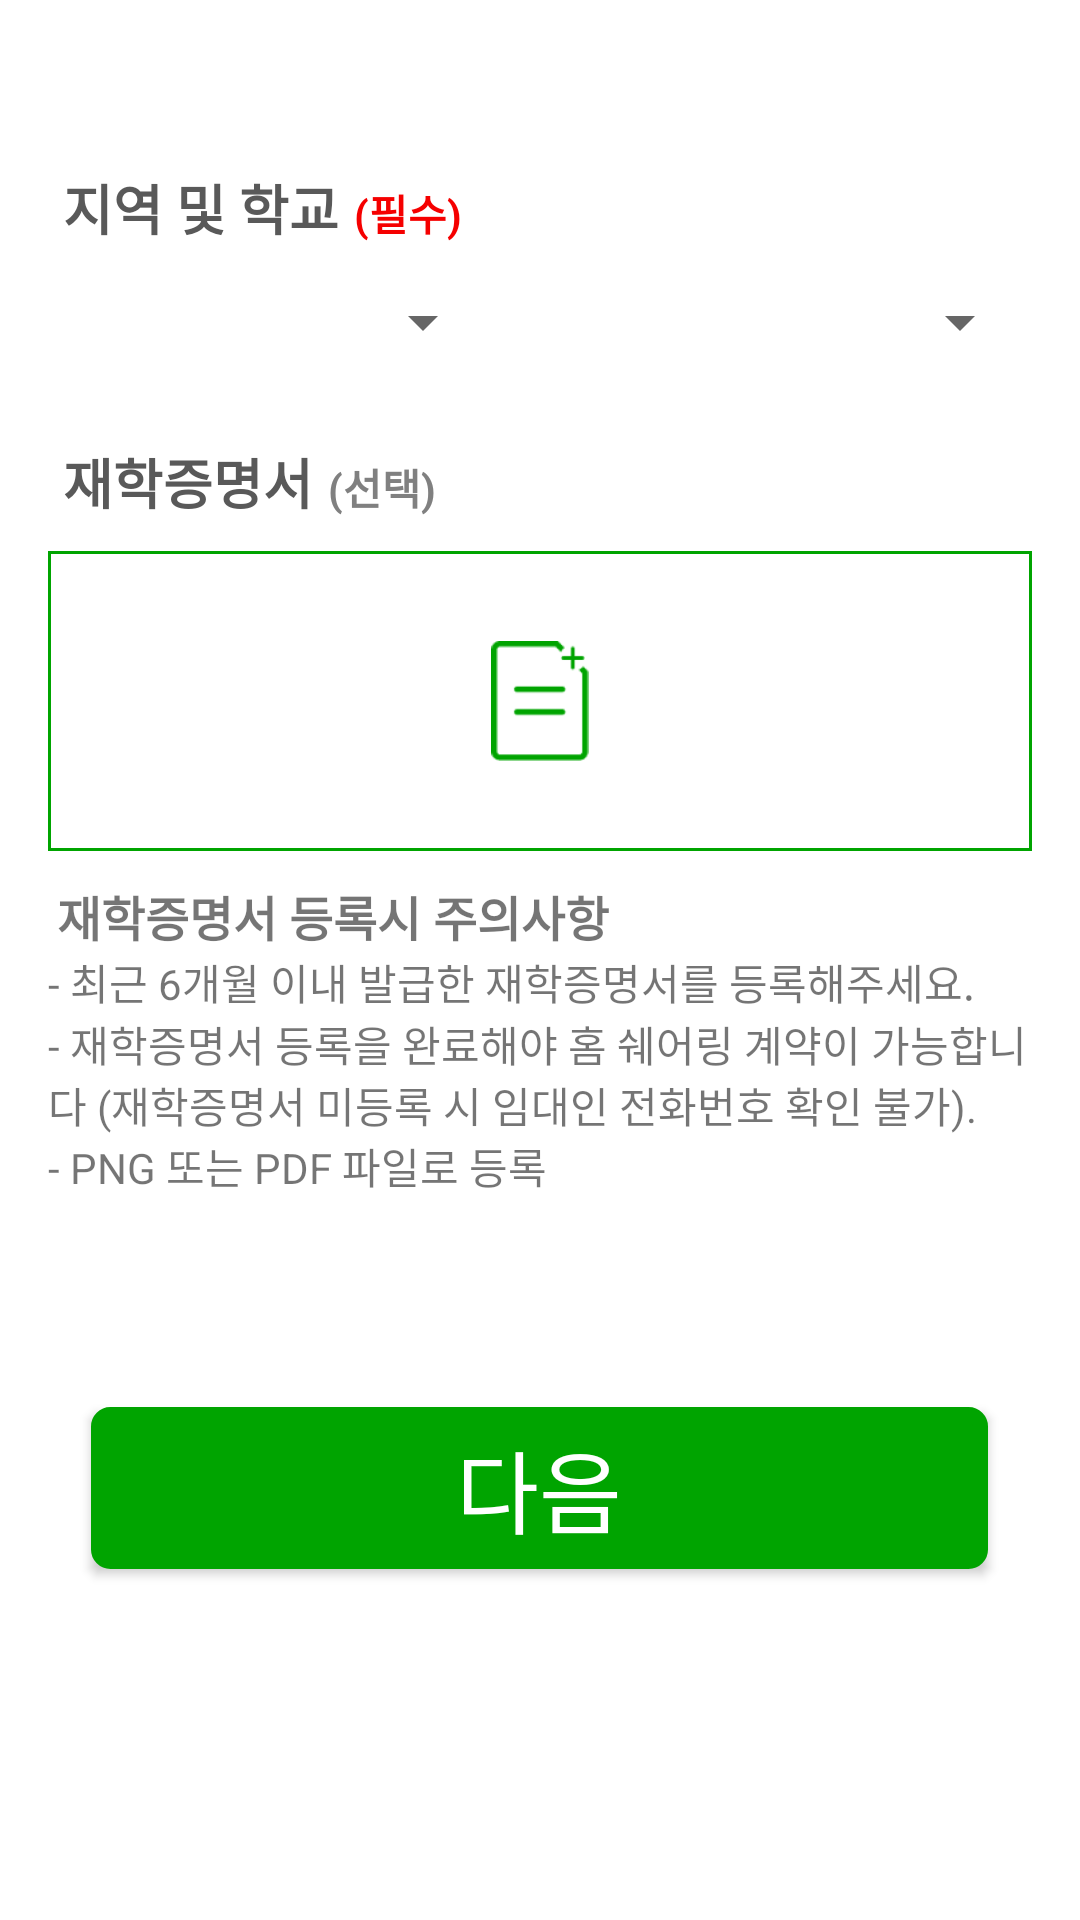

Icon bounding boxes for this 1080*1920 phone screenshot, format (x1,y1,x2,y2):
creditfile: (491,641,589,761)
